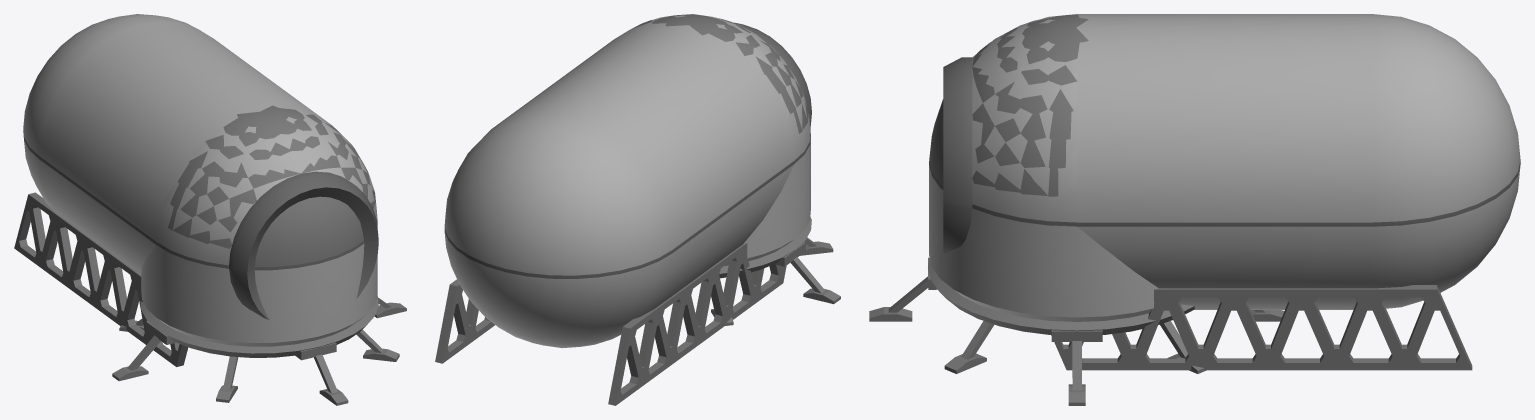
The model's file is house.glb.
3 views of the same model, side by side, from view 1: azimuth 30°, elevation 25°; view 2: azimuth 150°, elevation 25°; view 3: azimuth 270°, elevation 25° (orthographic). The views are drawn at different scales.
Visible parts, largest first — view 1: House_Long, House_Cylinder, House_Open, House_OpenBack, House_Single_Support; view 2: House_Long, House_Cylinder, House_Open, House_Single_Support; view 3: House_Long, House_Cylinder, House_Open, House_Single, House_OpenBack, House_Single_Support.
Boxes of the visible parts, left/top/right/bottom form: House_Long: left=14, top=14, right=377, bottom=366; House_Cylinder: left=112, top=105, right=406, bottom=405; House_Open: left=164, top=113, right=378, bottom=319; House_OpenBack: left=164, top=117, right=376, bottom=318; House_Single_Support: left=119, top=319, right=399, bottom=402; House_Long: left=435, top=14, right=811, bottom=405; House_Cylinder: left=633, top=14, right=840, bottom=304; House_Open: left=631, top=18, right=811, bottom=148; House_Single_Support: left=711, top=237, right=833, bottom=325; House_Long: left=943, top=14, right=1520, bottom=370; House_Cylinder: left=869, top=14, right=1284, bottom=405; House_Open: left=943, top=26, right=1077, bottom=252; House_Single: left=961, top=67, right=972, bottom=245; House_OpenBack: left=943, top=30, right=1076, bottom=252; House_Single_Support: left=944, top=321, right=1206, bottom=373.
Size of what is drawn, in the model's own units: 5.61 by 4.32 by 8.79.
Materials: 1 (1 with a texture image).
